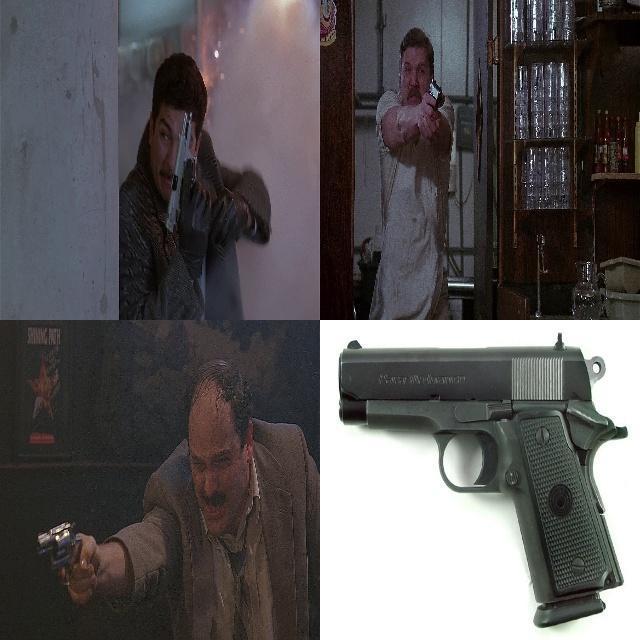gun-knife-thesis - v11 Yolov5 augmented: (336, 335, 614, 630), (162, 107, 214, 245), (33, 516, 91, 597), (418, 72, 449, 141)
